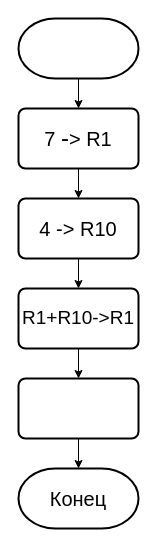
This 156x546 diagram has some shape labels left out. The shapes that lost their labels are listed below. From the top down, each one's centre as x and y in pixels, then its label:
At point 78,48: "Начало".
At point 78,408: "R1->R10".
